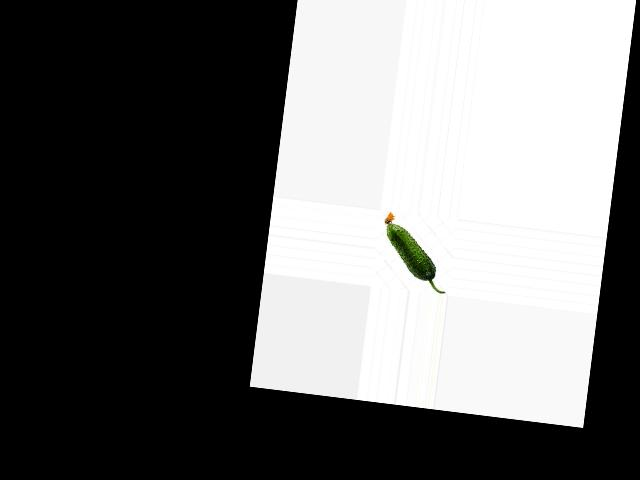cucumber: (376, 211, 454, 293)
